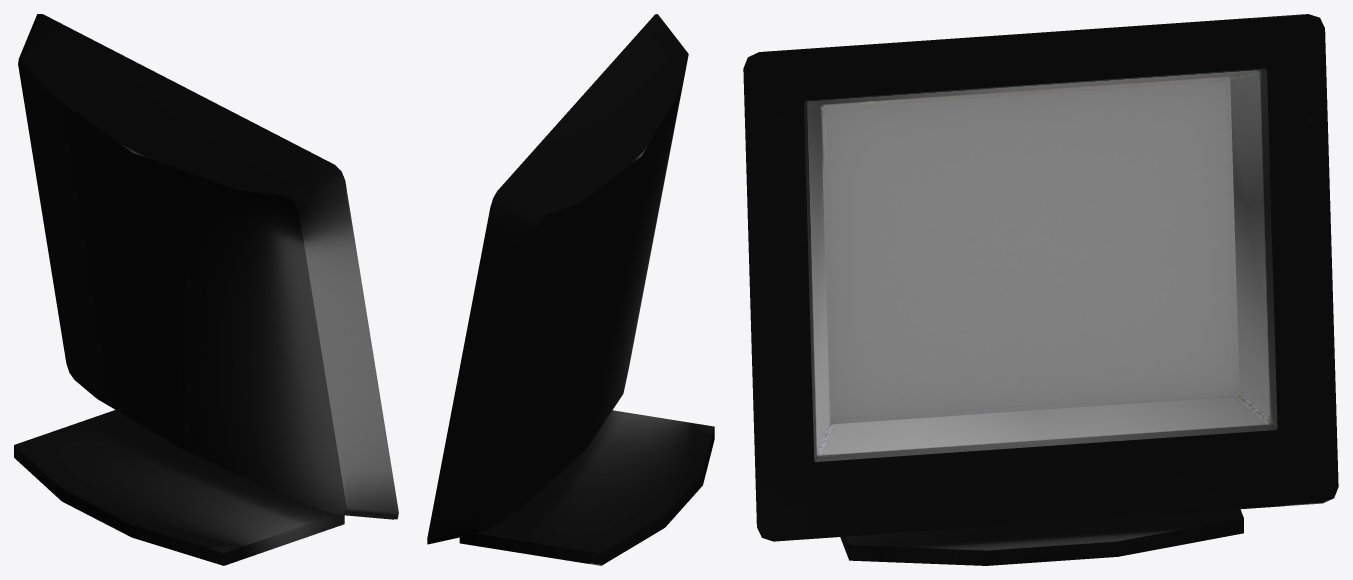
3 views of the same model, side by side, from view 1: azimuth 30°, elevation 25°; view 2: azimuth 150°, elevation 25°; view 3: azimuth 270°, elevation 25° (orthographic). The views are drawn at different scales.
Parts seen in each view (by area): view 1: tv 5; view 2: tv 5; view 3: tv 5.
Boxes of the visible parts, <box> form: tv 5: <box>14,14,398,565</box>; tv 5: <box>427,14,714,565</box>; tv 5: <box>743,14,1338,565</box>.
Size of the model in its own units: 113 by 235 by 209.
1 material, 1 textured.
